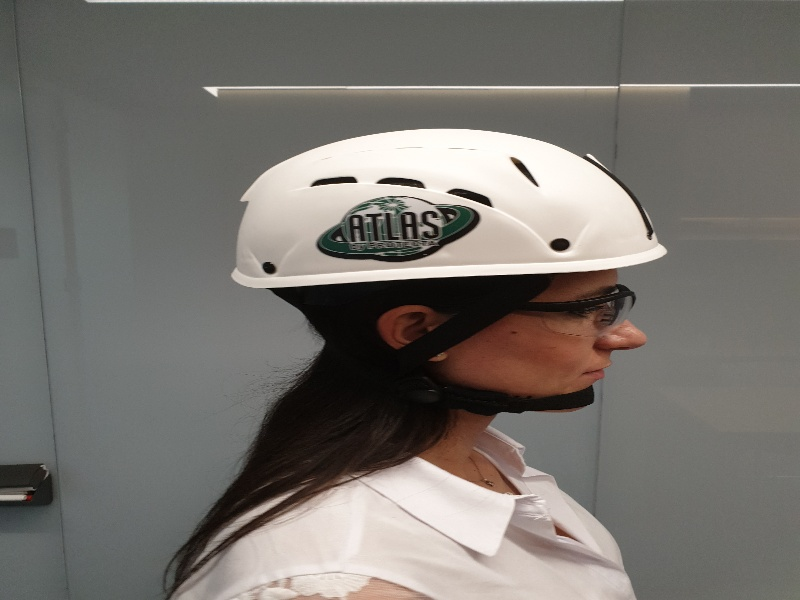Baret: (242, 133, 671, 270)
Gozluk: (493, 296, 668, 339)
